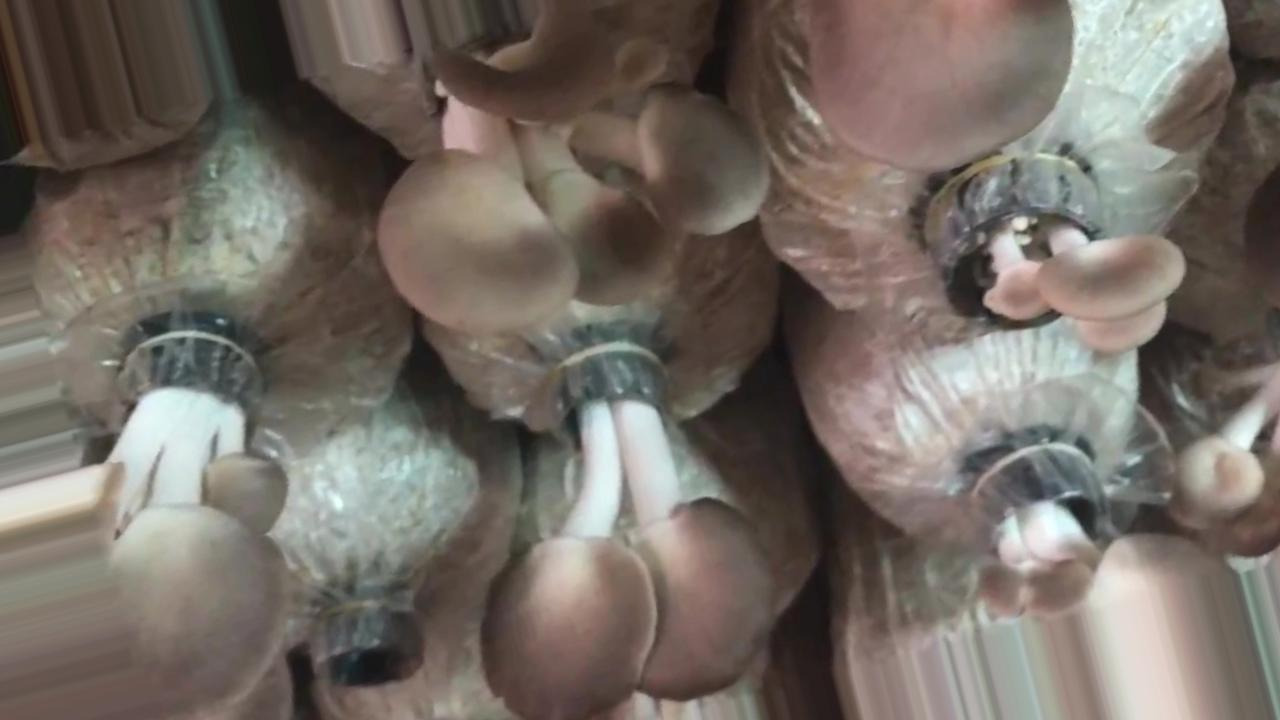nam: (380, 5, 768, 328), (1, 328, 285, 716), (485, 352, 770, 720), (977, 441, 1263, 720), (935, 162, 1186, 349), (810, 1, 1073, 171), (1171, 362, 1280, 555)
